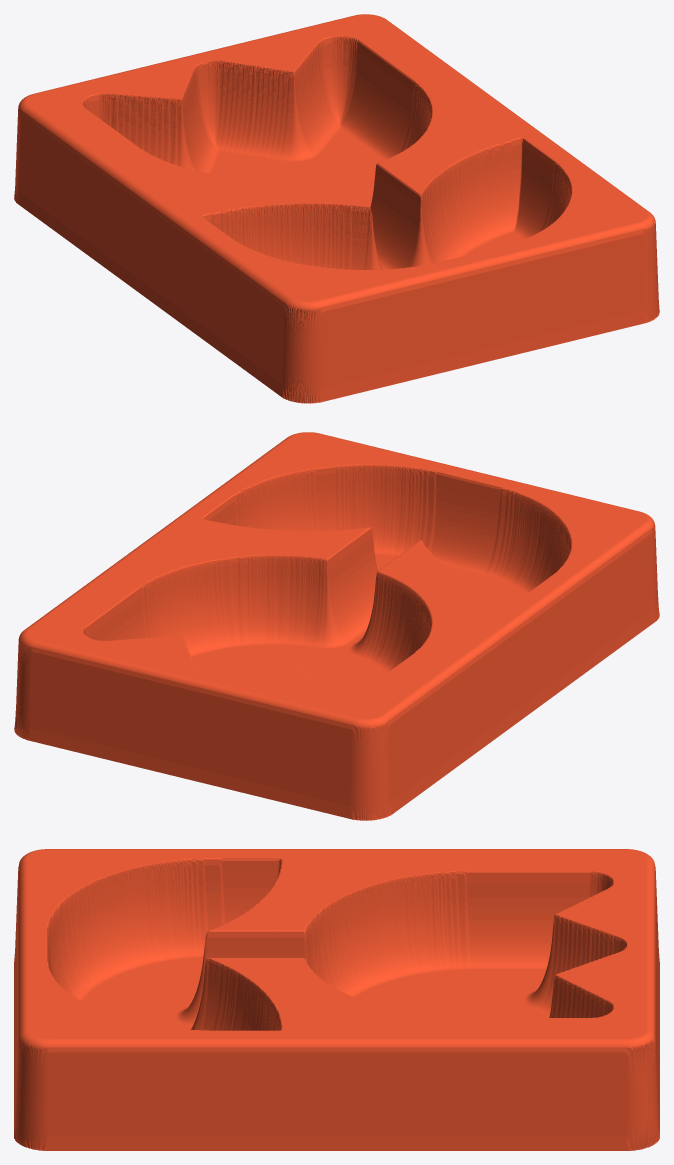
Rendered from mold.glb.
3 views of the same model, one above another, from view 1: azimuth 30°, elevation 25°; view 2: azimuth 150°, elevation 25°; view 3: azimuth 270°, elevation 25° (orthographic). The views are drawn at different scales.
Visible parts, largest first — view 1: geometry_0; view 2: geometry_0; view 3: geometry_0.
Part boxes in pixels (x1,y1,x2,y2): geometry_0: (14, 14, 659, 403); geometry_0: (14, 432, 659, 820); geometry_0: (14, 849, 659, 1150).
Size of the model in its own units: 0.1256 by 0.031 by 0.1709.
